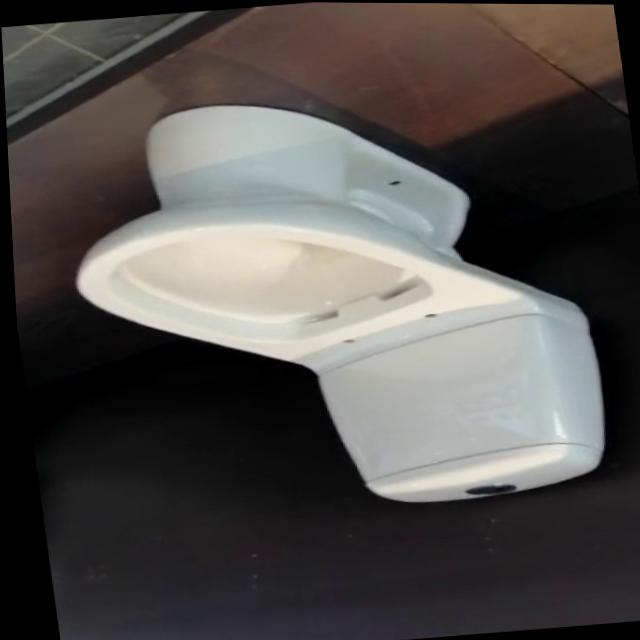toilet: (50, 74, 615, 532)
